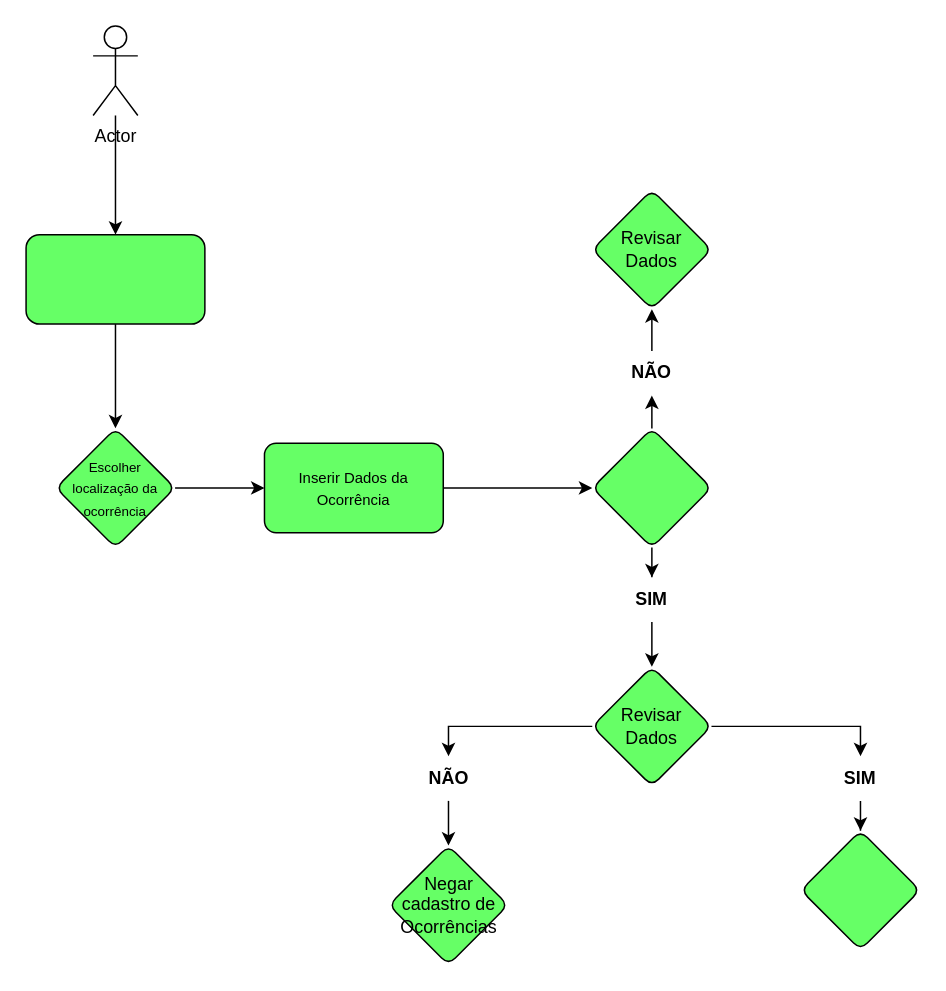
Image size: 946x991. Some labels were removed from this diagram. Each missing label, with the centre of its shape:
Avisar Autoridades: [651,487]
Incluir no Mapa: [859,889]
Inserir ocorrência: [115,278]
